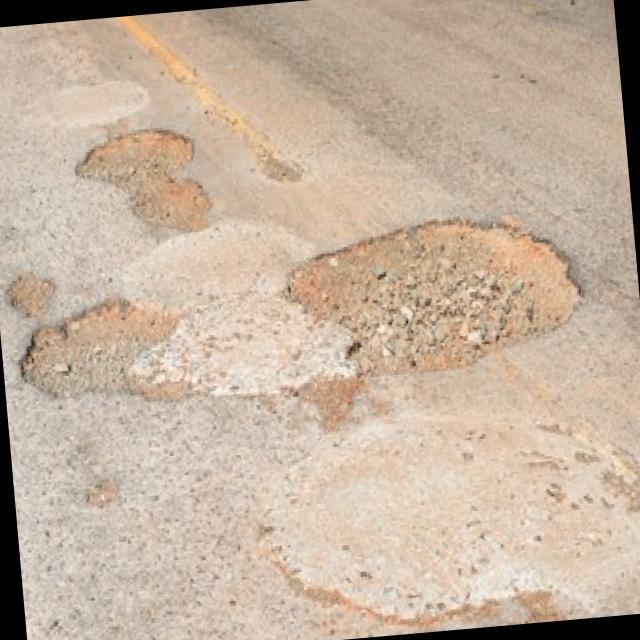Pothole: (276, 206, 592, 387), (12, 283, 194, 420), (72, 123, 219, 241), (4, 269, 56, 319)
